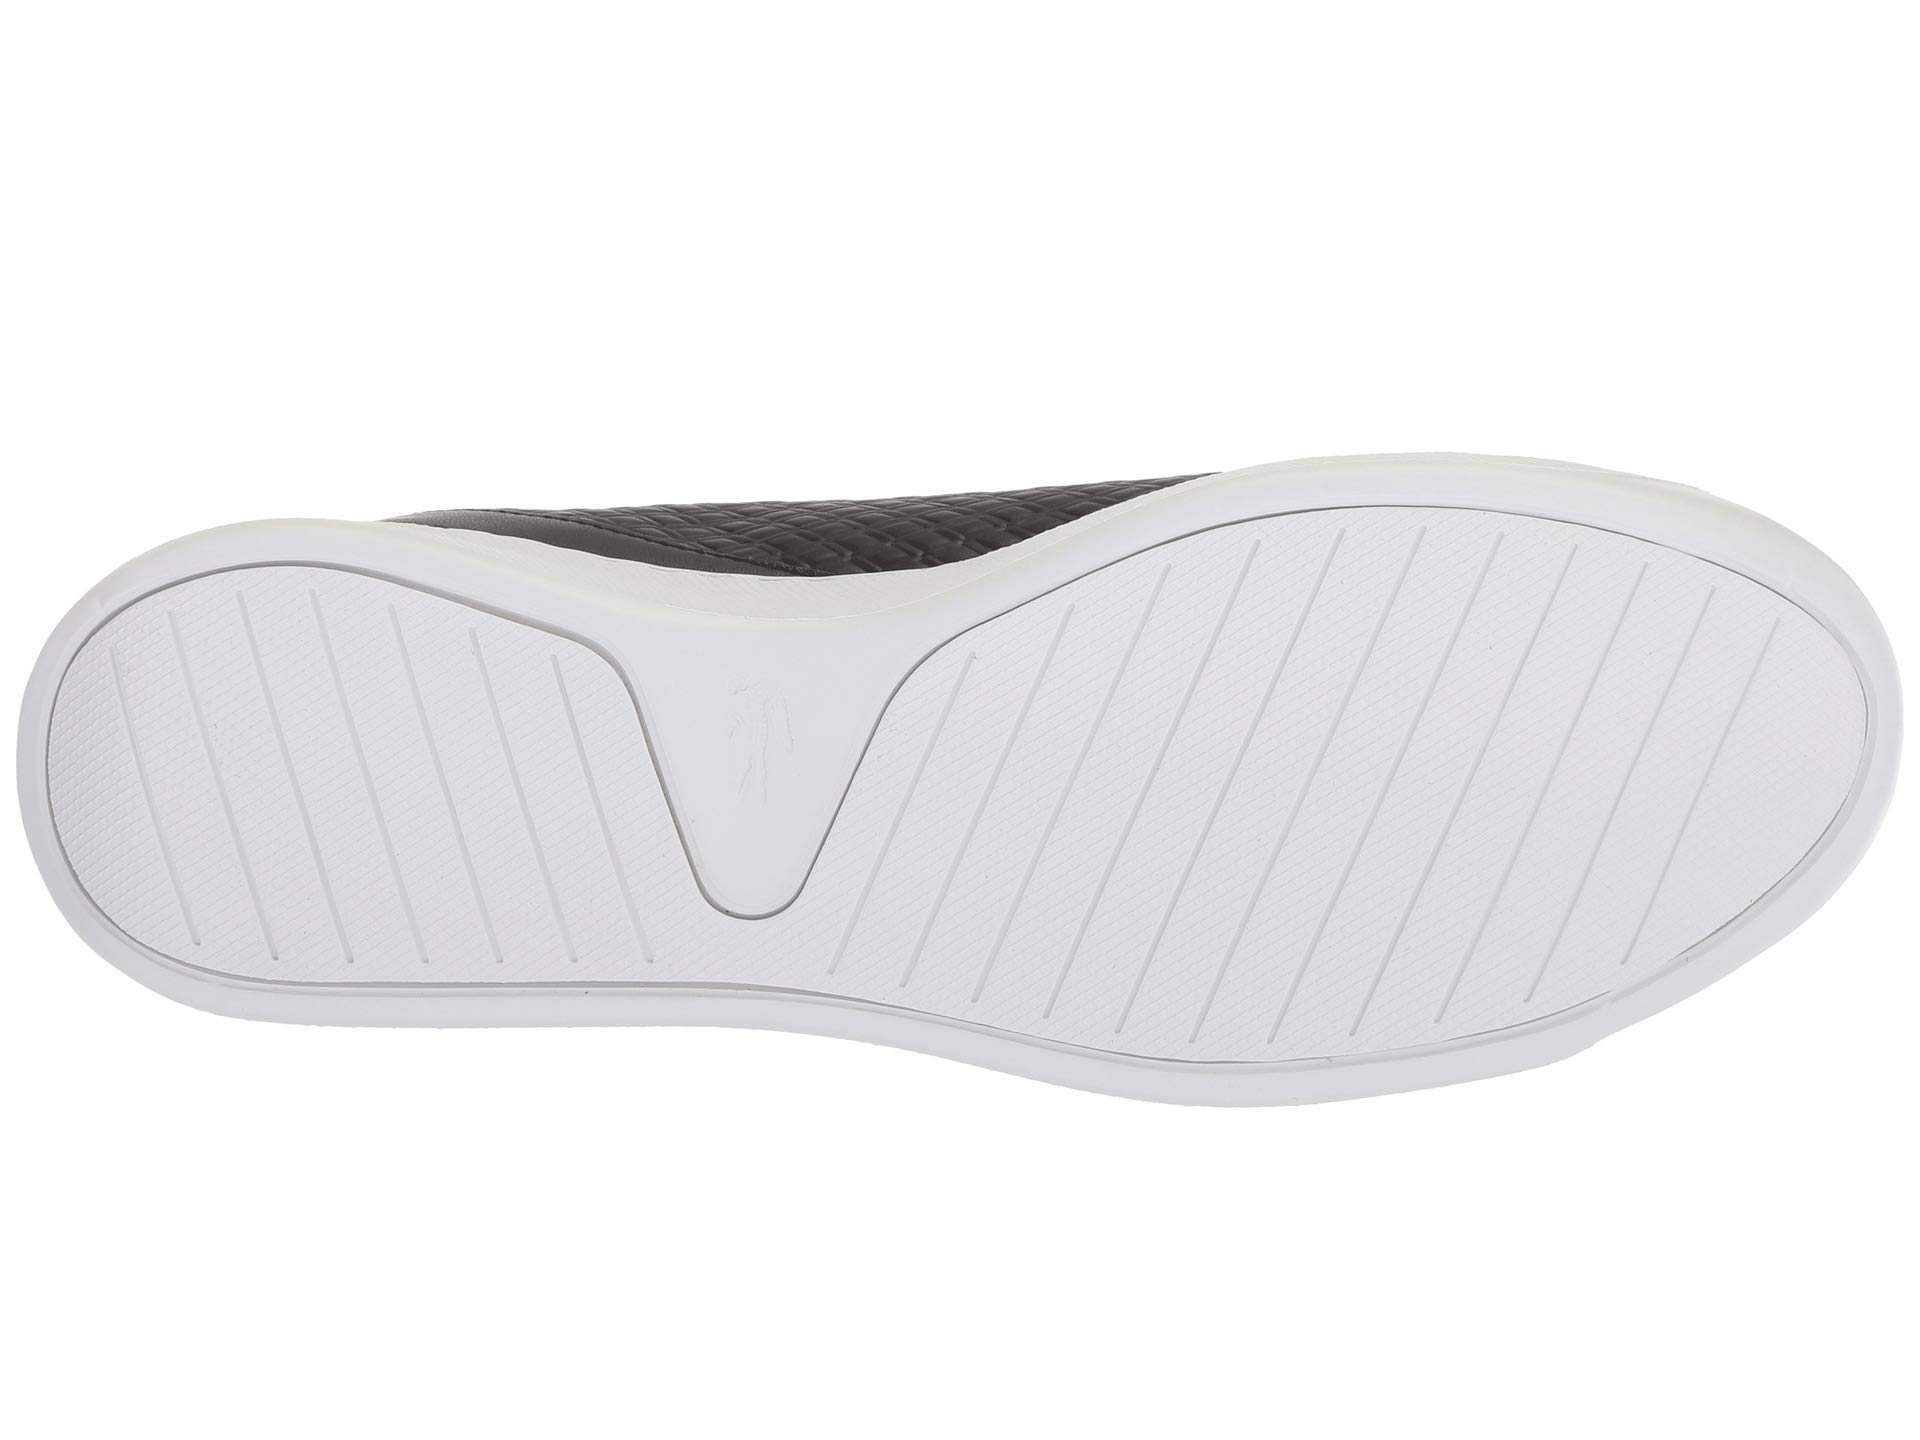line: (1081, 622, 1438, 942), (216, 647, 513, 927)
